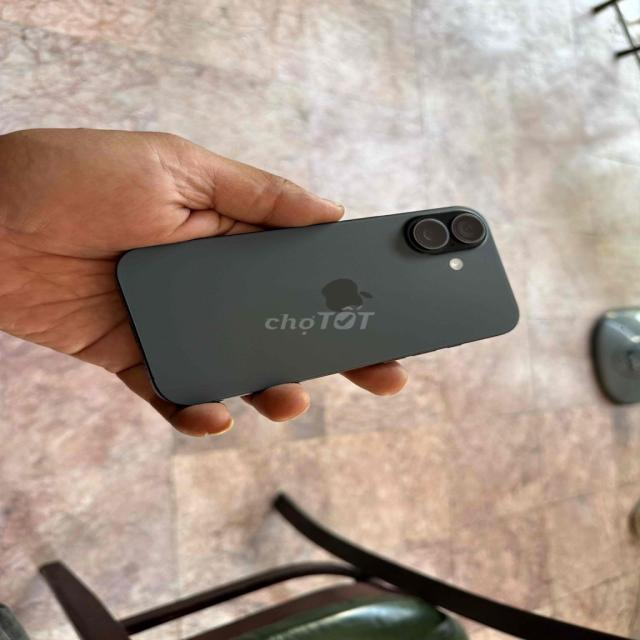gen_17: (101, 199, 538, 407)
